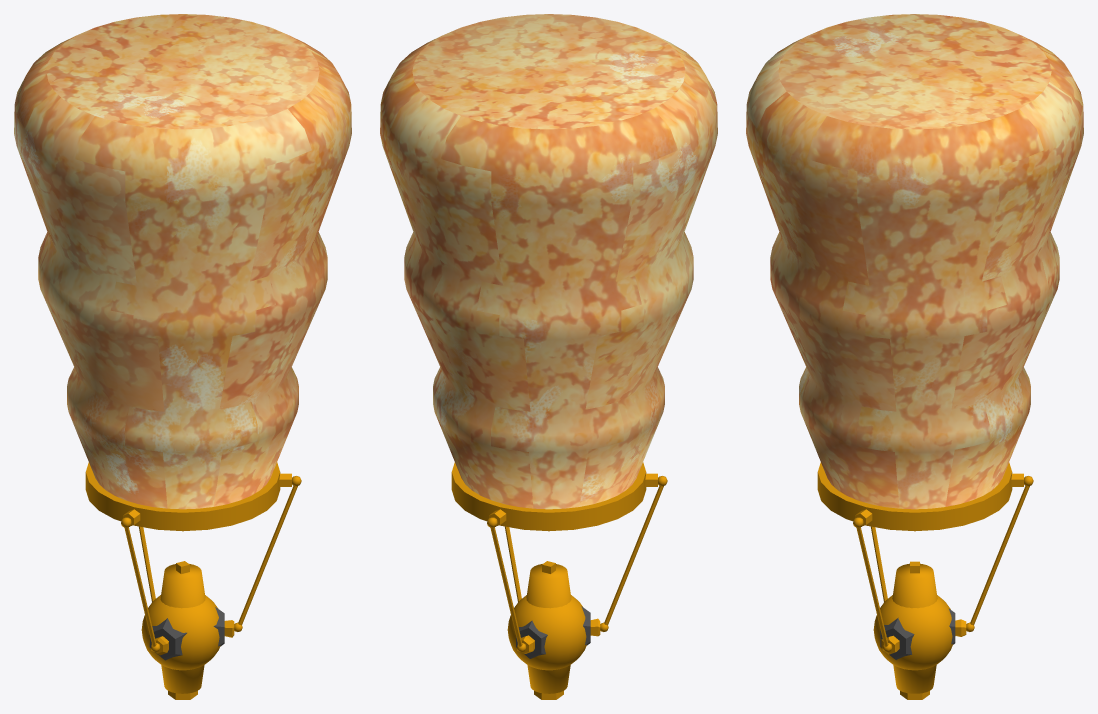
File: lantern_3_higher_quality.fbx
3 views of the same model, side by side, from view 1: azimuth 30°, elevation 25°; view 2: azimuth 150°, elevation 25°; view 3: azimuth 270°, elevation 25° (orthographic).
Parts seen in each view (by area): view 1: Cylinder.002, Cube.003; view 2: Cylinder.002, Cube.003; view 3: Cylinder.002, Cube.003.
Boxes of the visible parts, bbox=[...] form: Cylinder.002: bbox=[14, 14, 351, 509]; Cube.003: bbox=[85, 462, 301, 699]; Cylinder.002: bbox=[380, 14, 717, 509]; Cube.003: bbox=[451, 462, 667, 699]; Cylinder.002: bbox=[746, 14, 1083, 509]; Cube.003: bbox=[817, 462, 1033, 699].
Size of the model in its own units: 131 by 267 by 131.
